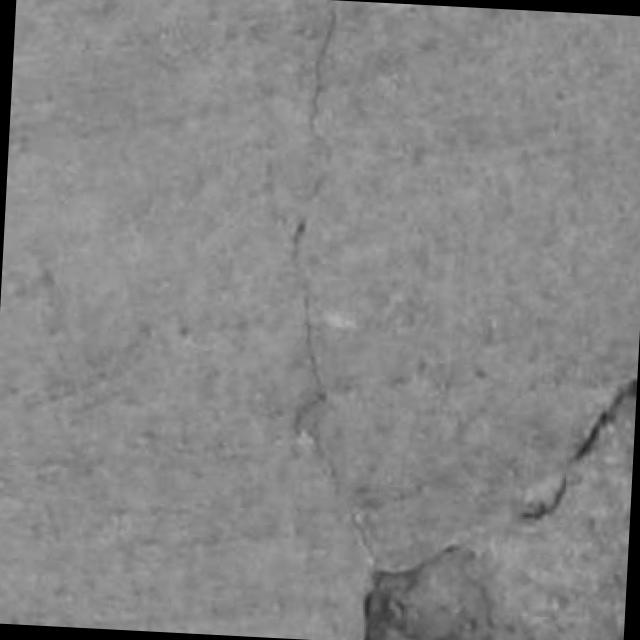crack: (291, 221, 375, 569), (520, 379, 636, 522), (363, 546, 529, 640), (573, 379, 636, 461), (309, 0, 337, 137)
